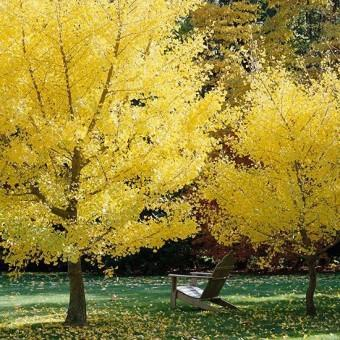tree: (1, 1, 221, 326), (200, 62, 340, 317)
